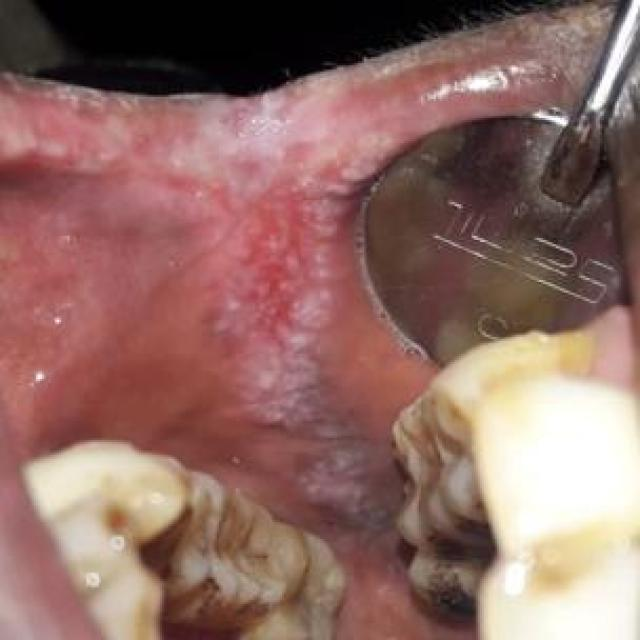leukoplakia-detection: (50, 91, 406, 571)
processing_area: (0, 39, 542, 638)
